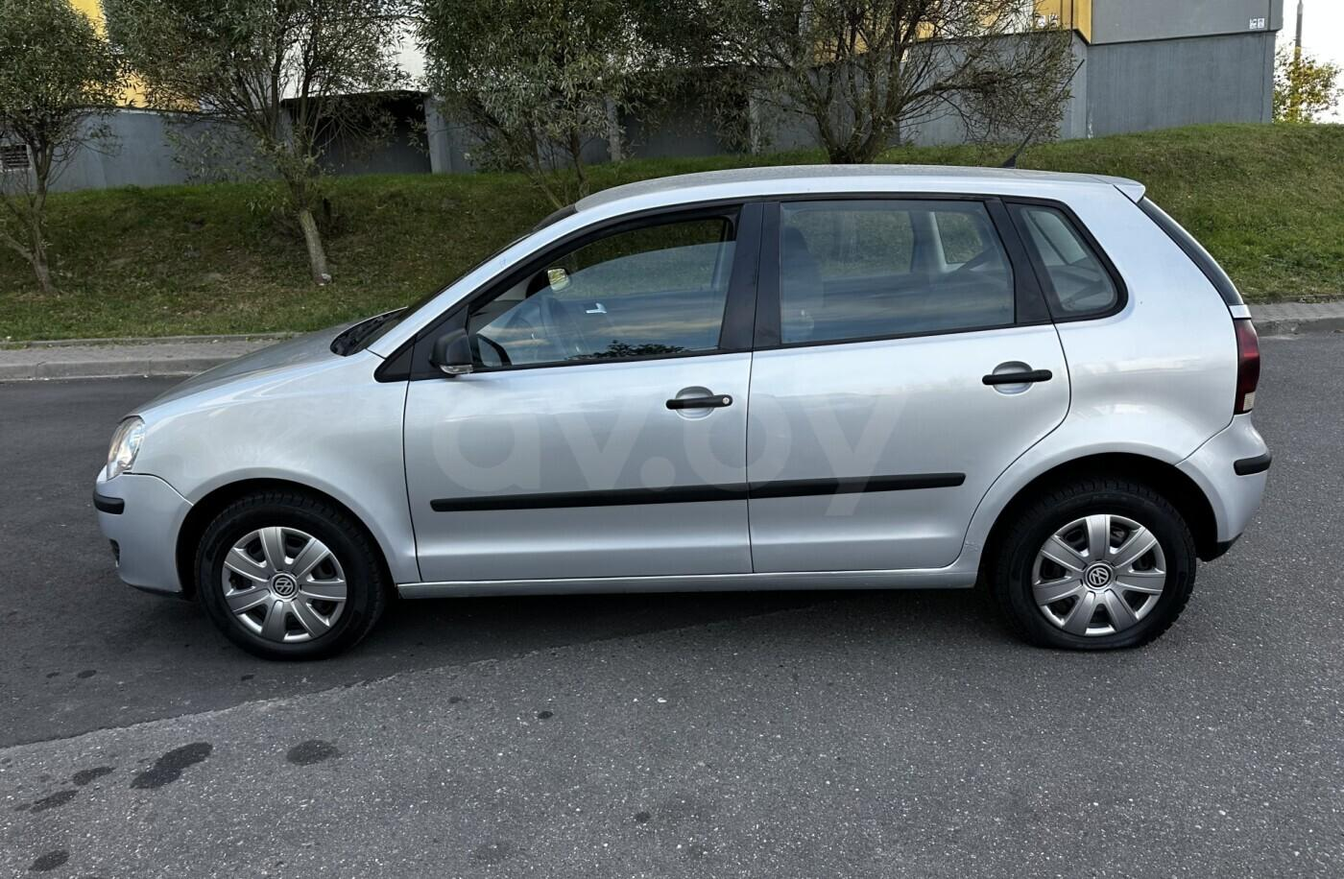Polo_2005-2009: (90, 149, 1265, 687)
